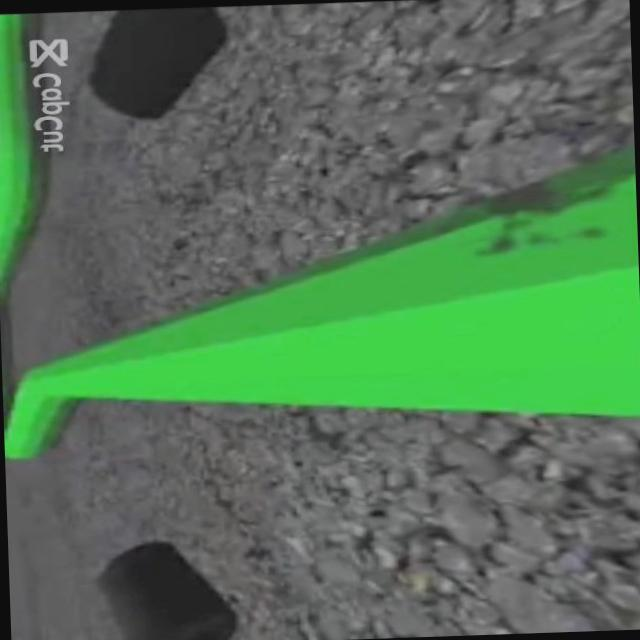gas: (0, 139, 640, 455)
